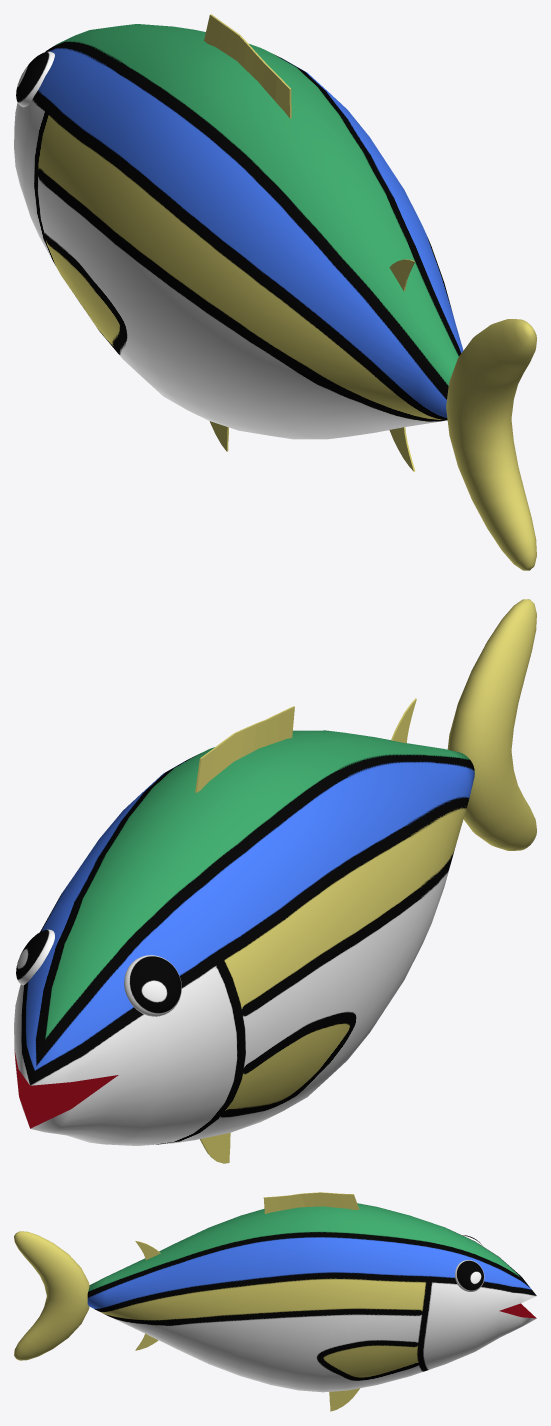
The model's file is buri.fbx.
3 renders of one model, top to bottom at view 1: azimuth 30°, elevation 25°; view 2: azimuth 150°, elevation 25°; view 3: azimuth 270°, elevation 25°, orthographic. The views are drawn at different scales.
Visible parts, largest first — view 1: Sphere, Sphere.001, Plane, Sphere.002, Plane.001; view 2: Sphere, Sphere.001, Sphere.002, Plane, Plane.002; view 3: Sphere, Sphere.001, Plane, Sphere.002, Plane.002, Plane.001.
Boxes of the visible parts, x1,y1,x2,y2 form: Sphere: [14, 24, 463, 439]; Sphere.001: [446, 319, 536, 570]; Plane: [204, 14, 291, 118]; Sphere.002: [16, 51, 54, 107]; Plane.001: [389, 259, 415, 471]; Sphere: [14, 730, 474, 1145]; Sphere.001: [447, 599, 536, 850]; Sphere.002: [16, 929, 181, 1016]; Plane: [195, 706, 294, 792]; Plane.002: [200, 1133, 230, 1163]; Sphere: [87, 1203, 536, 1392]; Sphere.001: [14, 1231, 89, 1360]; Plane: [263, 1192, 359, 1213]; Sphere.002: [455, 1235, 484, 1291]; Plane.002: [329, 1388, 359, 1411]; Plane.001: [135, 1241, 160, 1350].
Bounding box in the file's own units: 147 × 243 × 524.
1 material, 1 textured.
